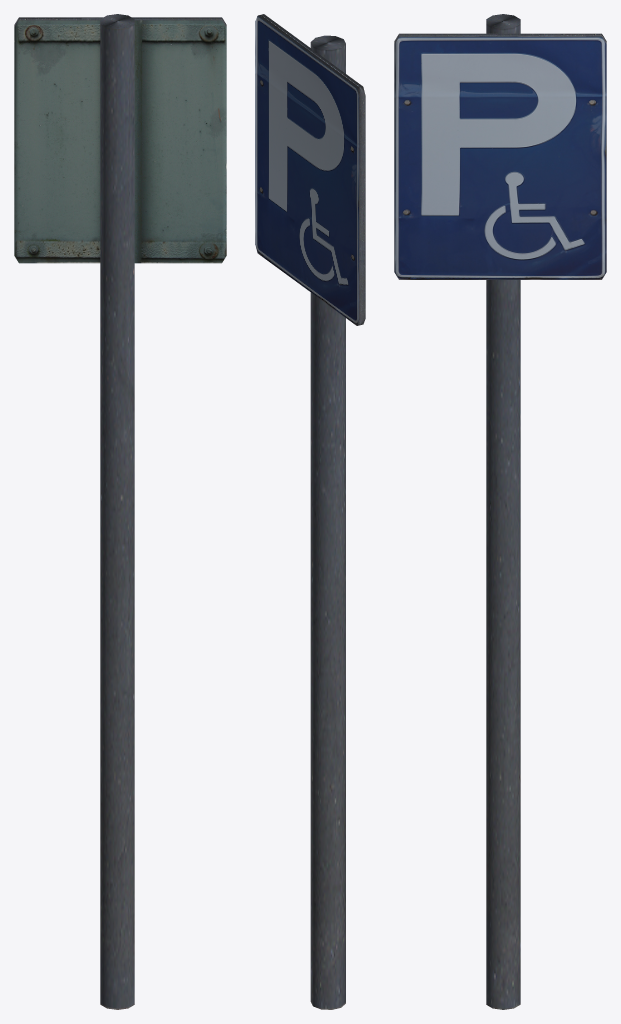
Rendered from c2_parking_sign_disabled.fbx.
3 renders of one model, left to right at view 1: azimuth 90°, elevation 25°; view 2: azimuth 210°, elevation 25°; view 3: azimuth 270°, elevation 25°, orthographic. The views are drawn at different scales.
Visible parts, largest first — view 1: Mesh; view 2: Mesh; view 3: Mesh.
Part boxes in pixels (x1,y1,x2,y2): Mesh: (14, 14, 226, 1009); Mesh: (255, 14, 365, 1009); Mesh: (394, 14, 606, 1009).
Size of the model in its own units: 8.7 by 228 by 44.8.
